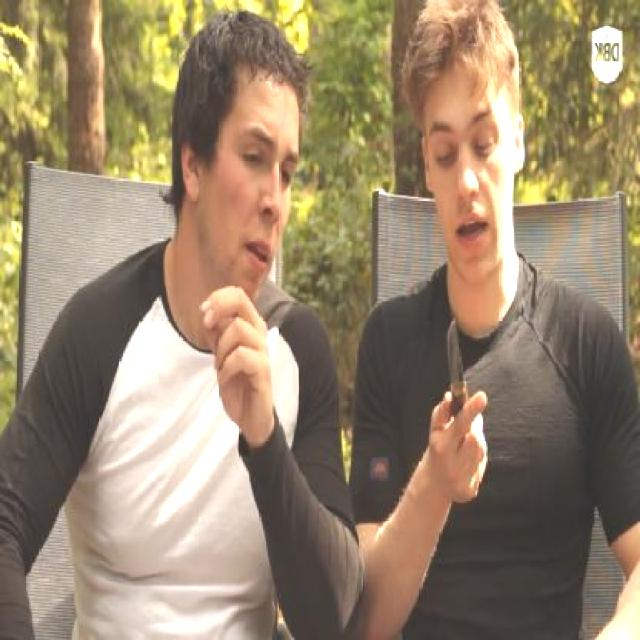knife: (431, 311, 489, 492)
